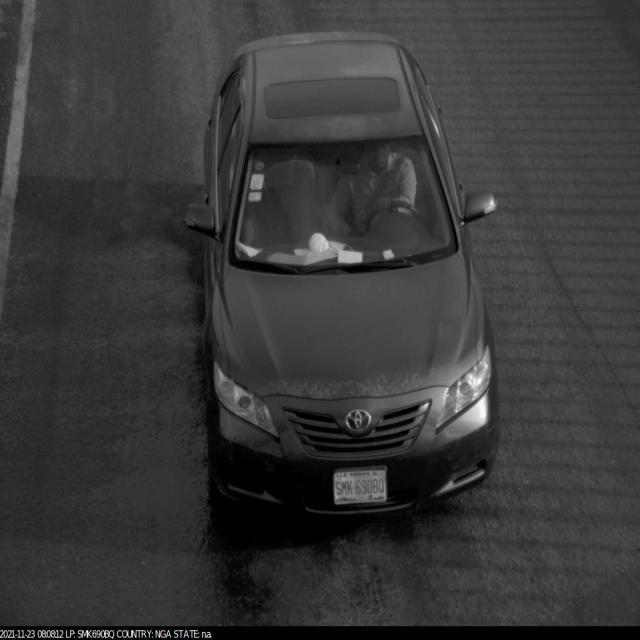windshield: (217, 127, 463, 280)
